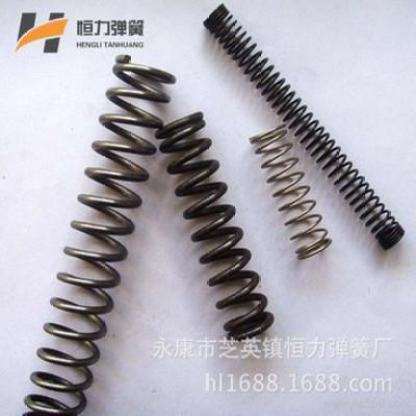FOD: (13, 48, 179, 415), (197, 3, 409, 254), (153, 107, 275, 352), (248, 121, 333, 264)
